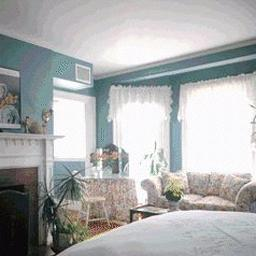Cama: (54, 206, 254, 255)
Matera: (42, 168, 92, 243)
Ventana: (186, 86, 248, 170), (114, 92, 165, 172), (56, 94, 92, 161)
